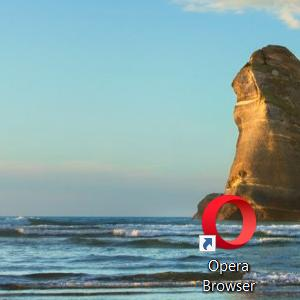opera: (199, 195, 256, 252)
